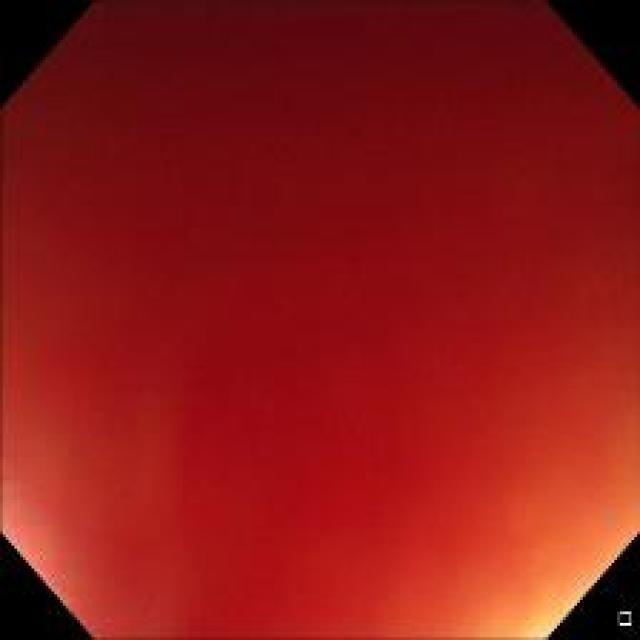color misalignment: (6, 9, 632, 632)
